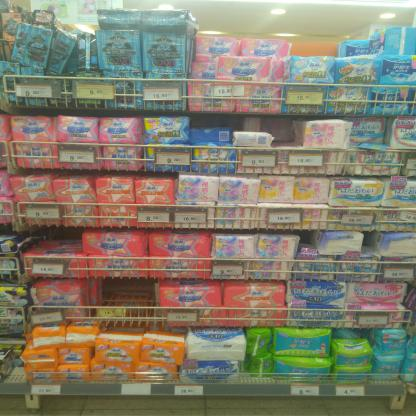Void: (104, 280, 152, 305), (273, 117, 301, 145), (193, 115, 243, 130), (292, 42, 336, 56), (42, 228, 80, 242), (302, 232, 316, 250), (368, 233, 378, 252)
